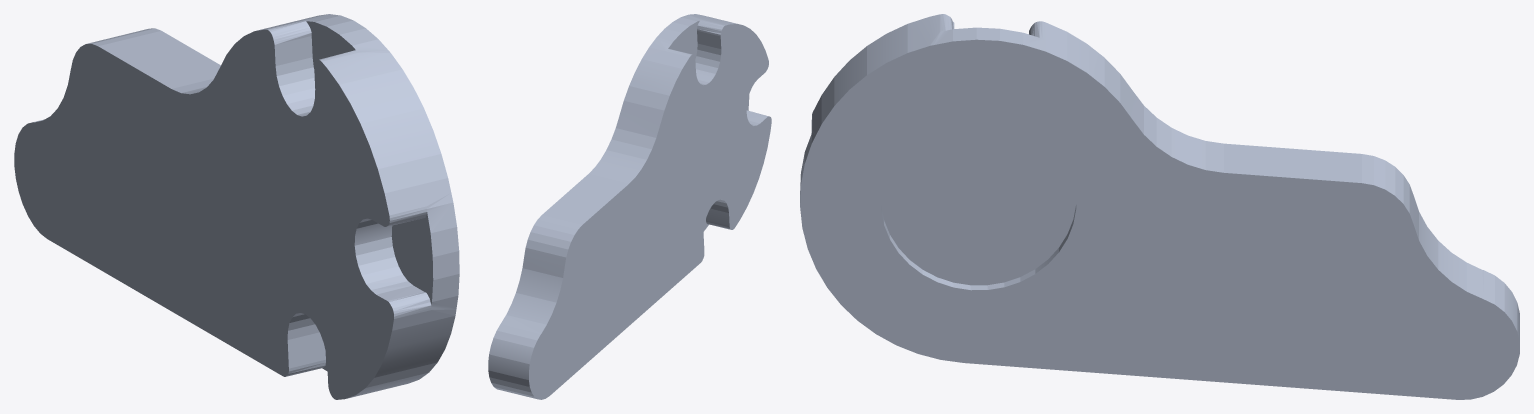
File: finger_outer_02.obj
The picture shows the model from 3 angles, left to right: view 1: azimuth 30°, elevation 25°; view 2: azimuth 150°, elevation 25°; view 3: azimuth 270°, elevation 25°; orthographic projection. The views are drawn at different scales.
Visible parts, largest first — view 1: finger_outer_02; view 2: finger_outer_02; view 3: finger_outer_02.
Part boxes in pixels (x1,y1,x2,y2): finger_outer_02: (14,14,459,399); finger_outer_02: (488,14,771,399); finger_outer_02: (800,14,1519,399).
Size of the model in its own units: 0.006 by 0.0345 by 0.0625.
